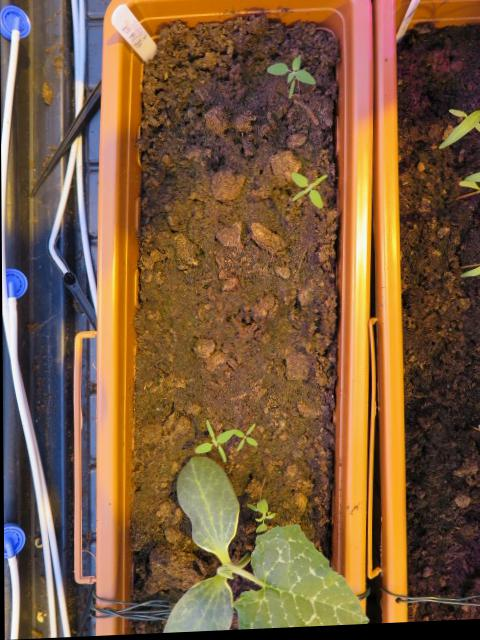weed: (263, 45, 316, 112), (287, 171, 328, 215)
